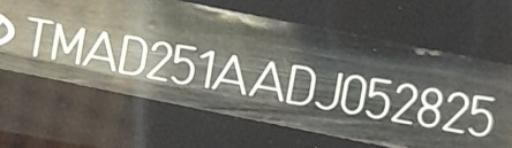letter: (209, 53, 247, 95), (249, 59, 285, 101), (53, 20, 85, 67), (82, 30, 118, 69), (467, 93, 499, 136), (284, 63, 318, 103), (168, 43, 200, 85), (363, 77, 395, 118), (440, 91, 470, 134), (116, 35, 148, 75), (23, 13, 51, 58), (314, 69, 344, 109), (390, 82, 418, 123), (415, 85, 443, 126), (146, 39, 172, 83), (340, 73, 368, 113), (194, 49, 216, 87)
